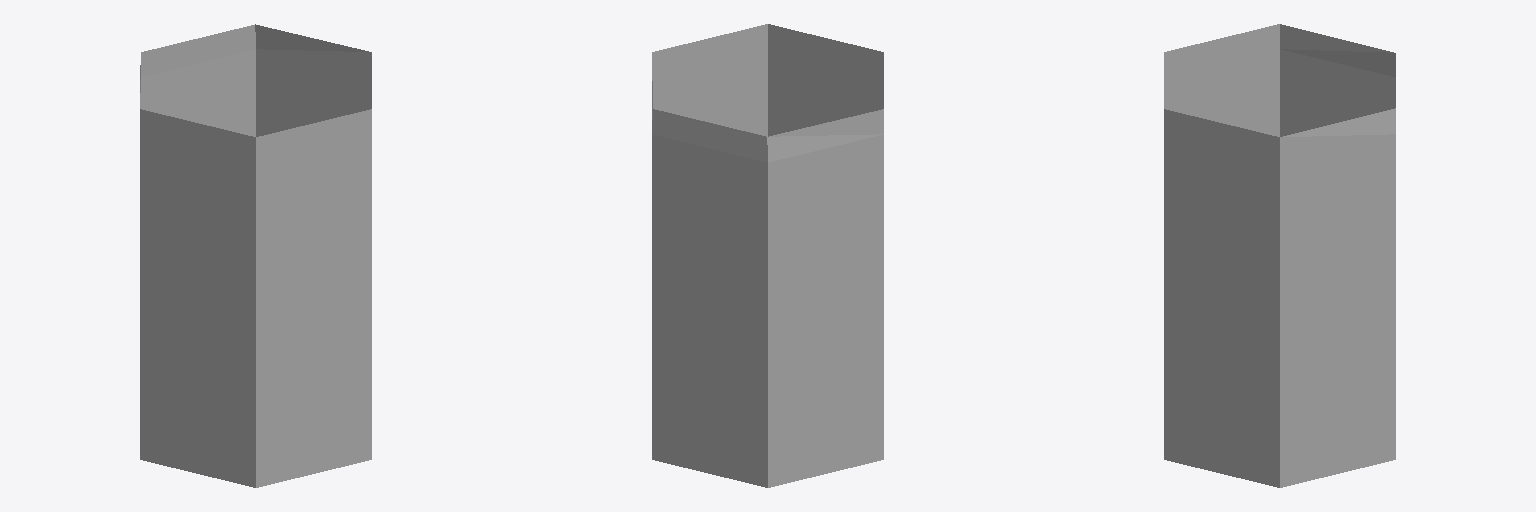
File: suelo_masBase.obj
3 views of the same model, side by side, from view 1: azimuth 30°, elevation 25°; view 2: azimuth 150°, elevation 25°; view 3: azimuth 270°, elevation 25° (orthographic).
Parts seen in each view (by area): view 1: A020; view 2: A020; view 3: A020.
Part boxes in pixels (x1,y1,x2,y2): A020: (140, 24, 371, 487); A020: (652, 24, 883, 487); A020: (1164, 24, 1395, 487).
Size of the model in its own units: 630 by 909 by 546.